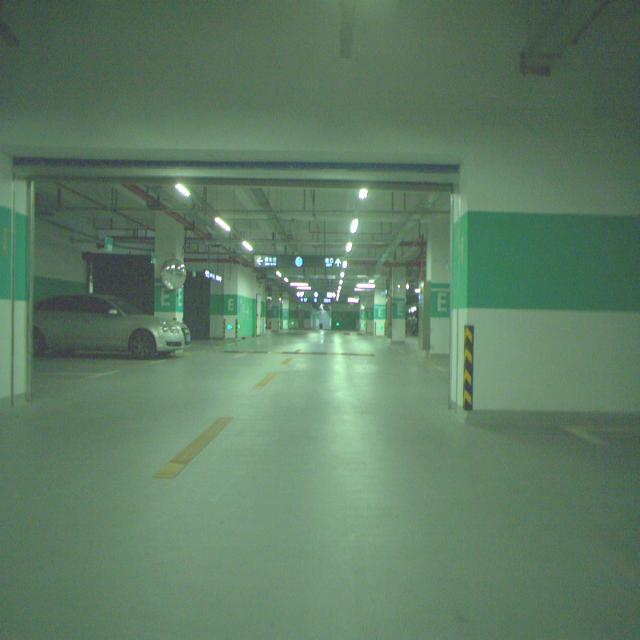pillar: (154, 211, 185, 321), (426, 219, 450, 355)
